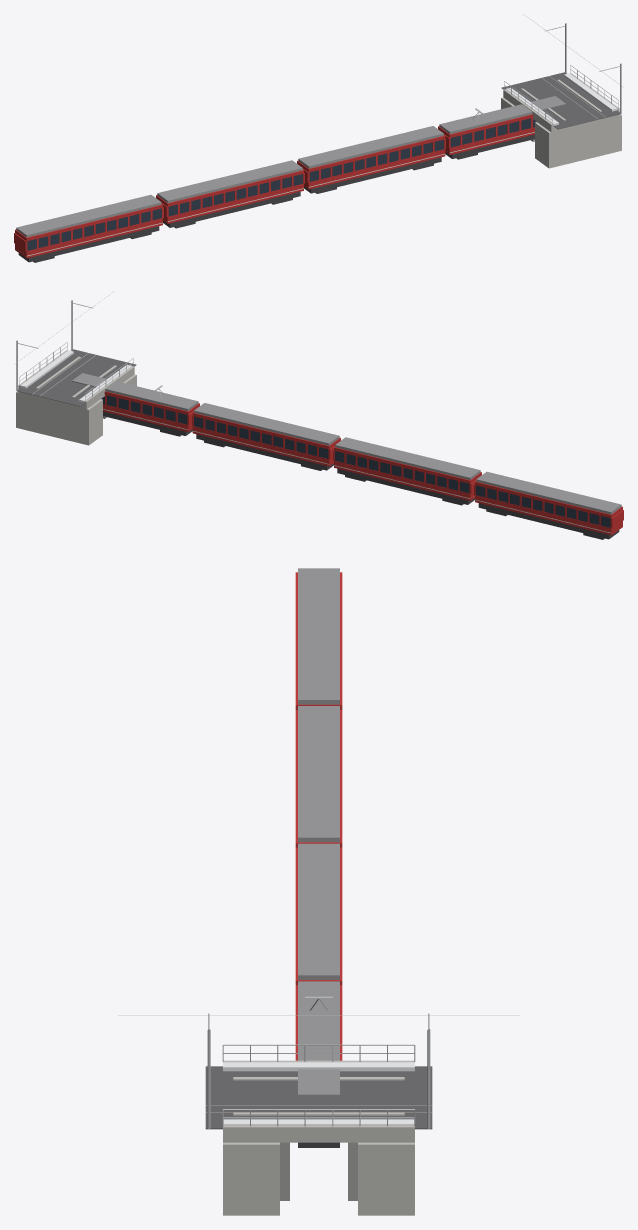
File: bridges.glb
3 views of the same model, one above another, from view 1: azimuth 30°, elevation 25°; view 2: azimuth 150°, elevation 25°; view 3: azimuth 270°, elevation 25° (orthographic). The views are drawn at different scales.
Visible parts, largest first — view 1: rhb_train, bridge_road_bridge; view 2: rhb_train, bridge_road_bridge; view 3: bridge_road_bridge, rhb_train, bridge_stable_junction.
Boxes of the visible parts, bbox=[...] form: rhb_train: bbox=[14, 96, 565, 262]; bridge_road_bridge: bbox=[501, 14, 623, 168]; rhb_train: bbox=[72, 373, 623, 539]; bridge_road_bridge: bbox=[14, 291, 136, 445]; bridge_road_bridge: bbox=[118, 1013, 519, 1215]; rhb_train: bbox=[295, 568, 342, 1147]; bridge_stable_junction: bbox=[233, 1077, 404, 1200].
Size of the model in its own units: 76.22 by 11.43 by 22.95.
